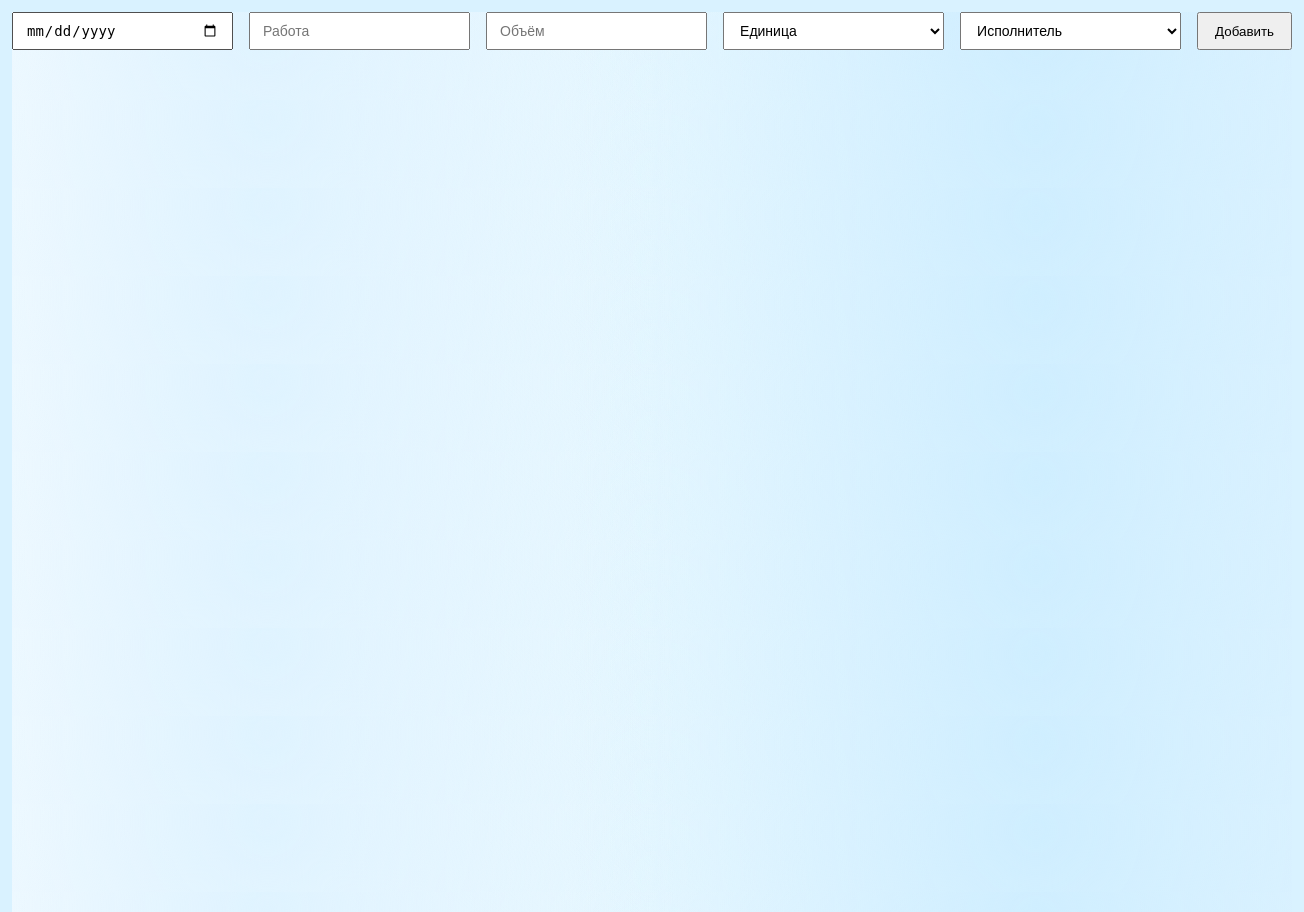
Test: LogForm › shows validation errors for empty fields
The width and height of the screenshot is (1304, 912).
What coordinates should you click on to do the following:
click the button "Добавить"
I would click on:
 (1245, 31)
Its box is [1197,12,1292,50].
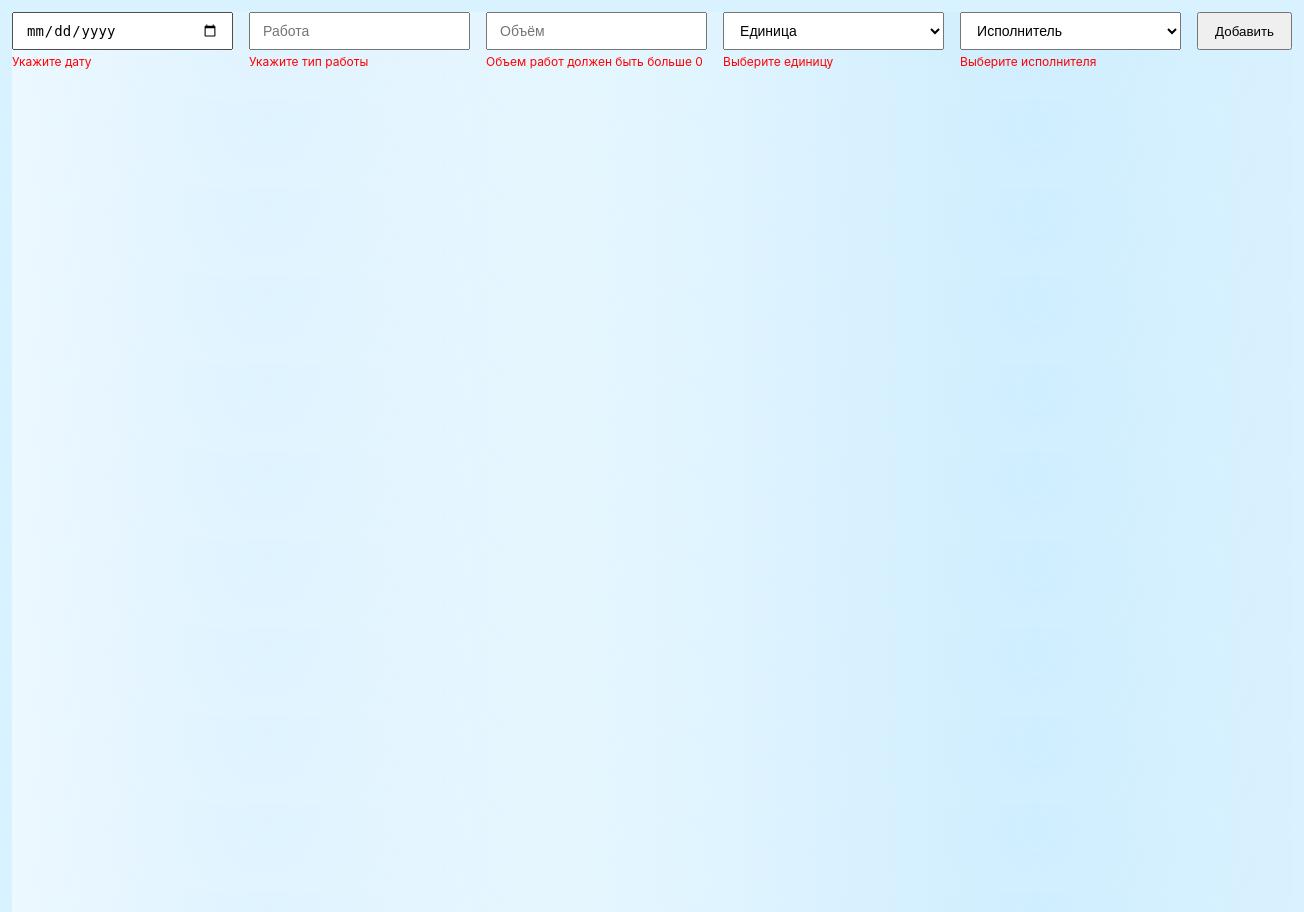
Now the text "Укажите дату" is shown, box [12,54,92,69]
